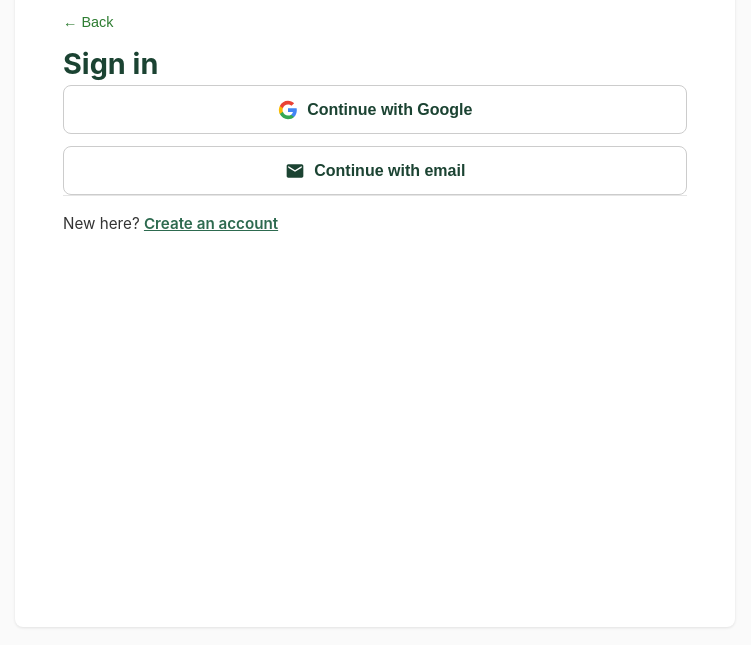
LoginPage › emails a reset link for a forgotten password, and offers nothing else by email
Click the button "Continue with email" at x=375, y=171, box top-left (63, 146), bottom-right (687, 195)
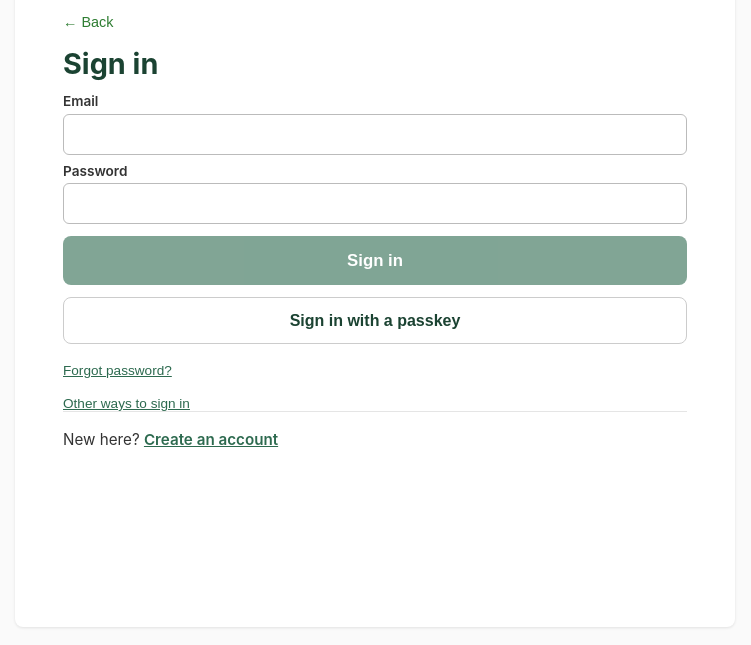
Click the button "Forgot password?" at x=117, y=370, box top-left (63, 362), bottom-right (172, 378)
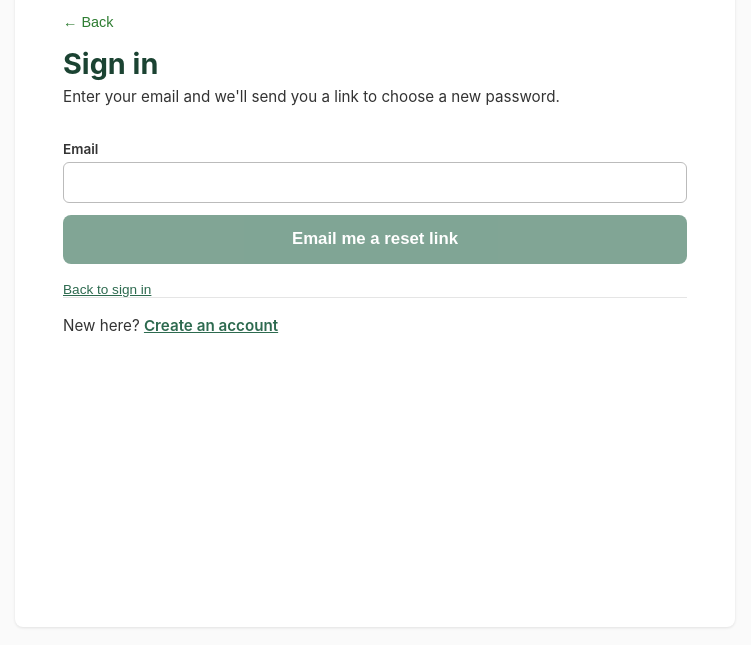
Type "jane@example.com" into the field labelled "Email" at x=375, y=182, box top-left (63, 162), bottom-right (687, 203)
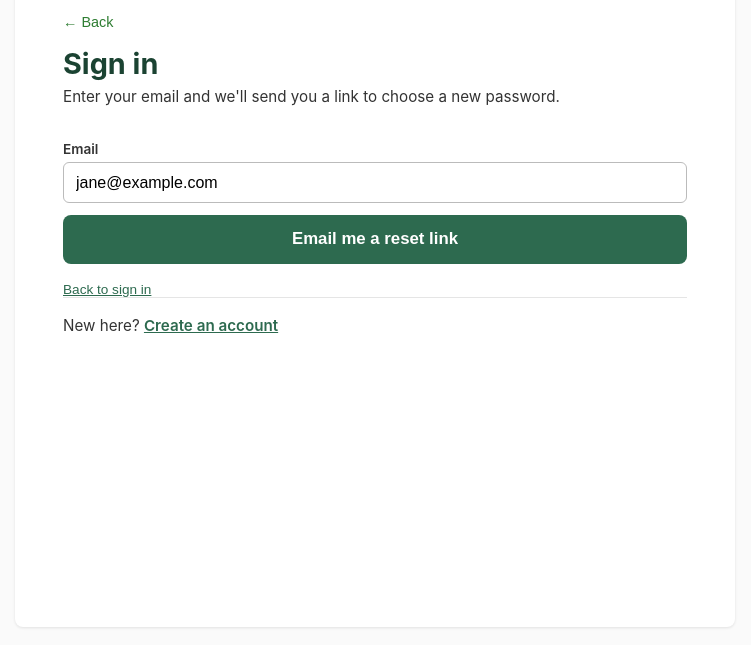
Click the button "Email me a reset link" at x=375, y=239, box top-left (63, 215), bottom-right (687, 264)
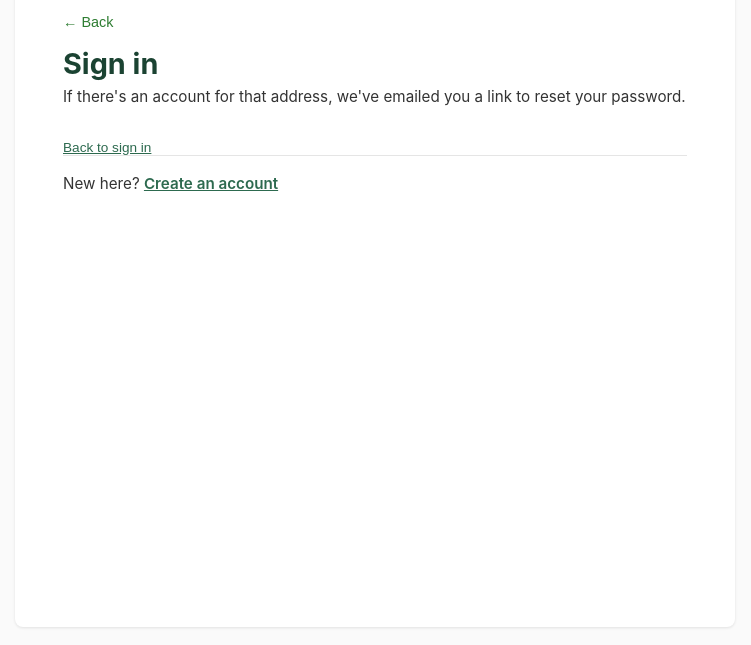
Now the message shows "If there's an account", box top-left (63, 87), bottom-right (686, 106)
